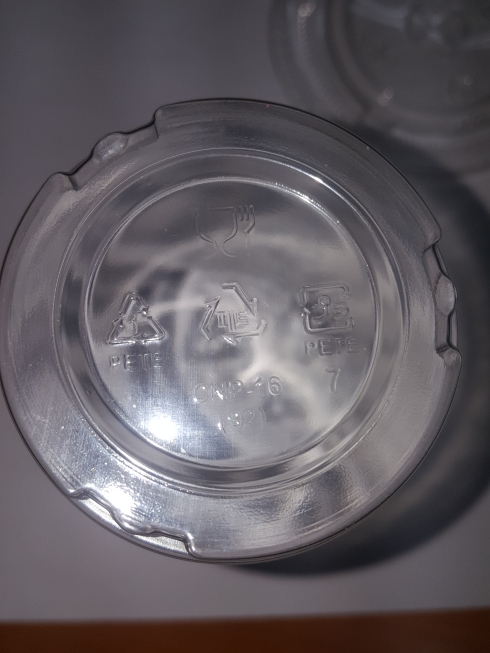recycle: (99, 289, 172, 379)
